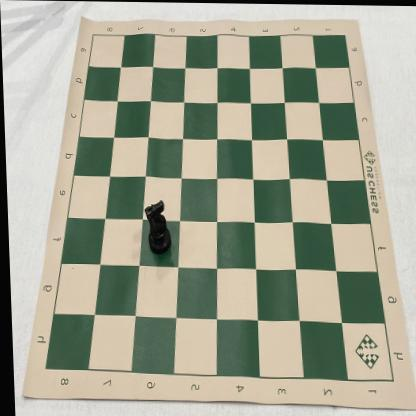black-knight: (143, 200, 170, 257)
